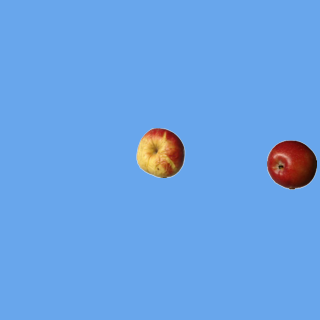Apple Braeburn: (266, 139, 316, 189)
Apple Red Yellow 1: (135, 127, 185, 177)
